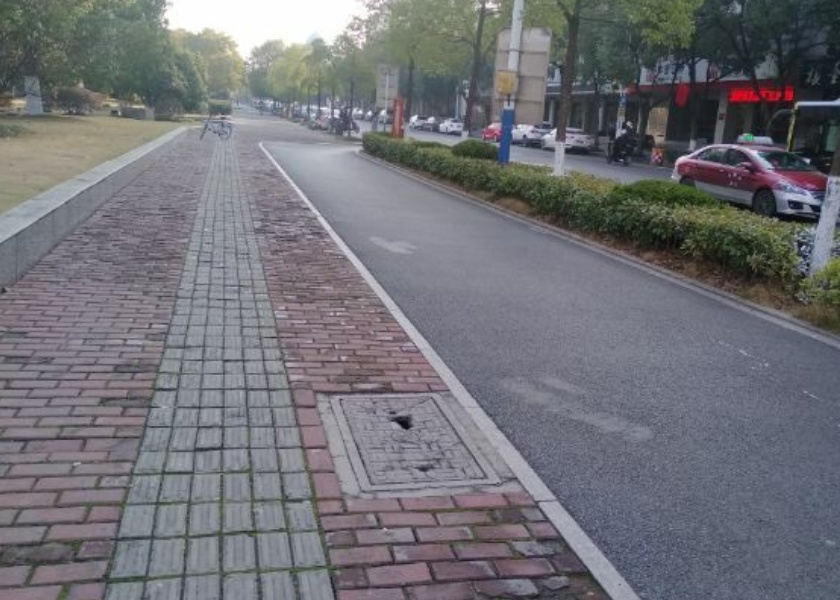broke: (327, 390, 502, 492)
